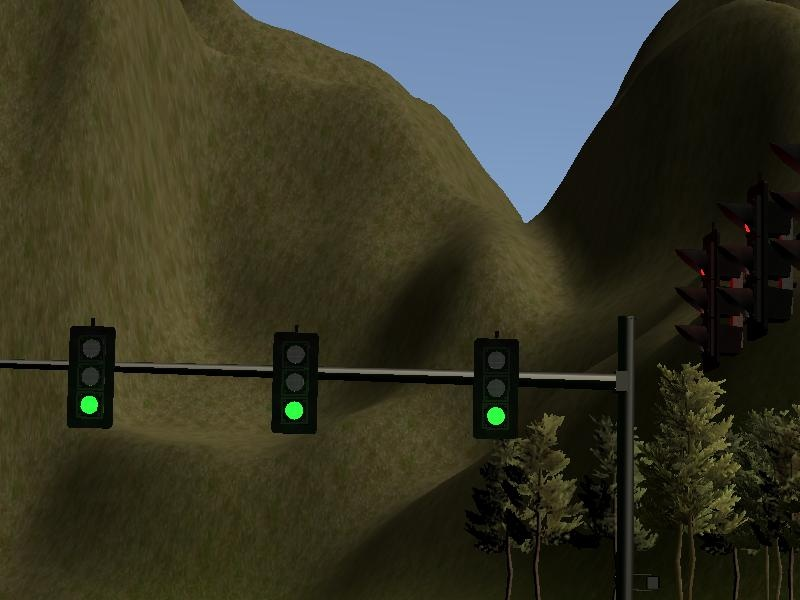GREEN: (67, 328, 113, 427), (272, 332, 318, 431), (472, 337, 518, 436)
